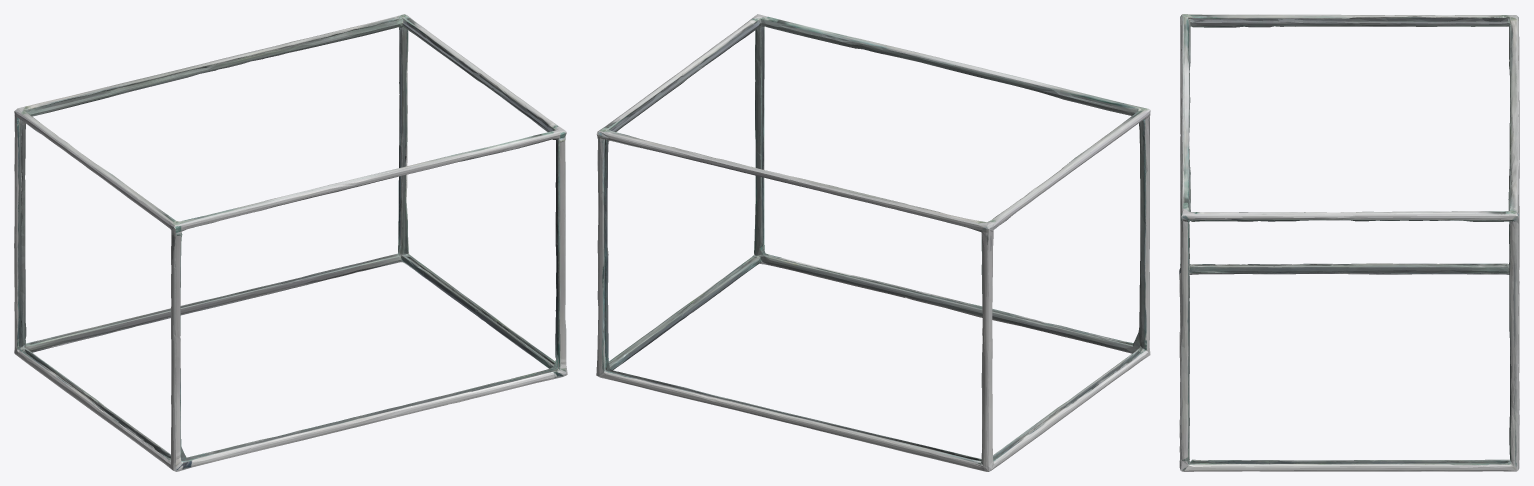
File: cam fanus.fbx
3 views of the same model, side by side, from view 1: azimuth 30°, elevation 25°; view 2: azimuth 150°, elevation 25°; view 3: azimuth 270°, elevation 25° (orthographic). The views are drawn at different scales.
Parts seen in each view (by area): view 1: temp; view 2: temp; view 3: temp.
Part boxes in pixels (x1=…): temp: x1=14, y1=14, x2=567, y2=471; temp: x1=596, y1=14, x2=1150, y2=471; temp: x1=1179, y1=14, x2=1519, y2=471.
Bounding box in the file's own units: 200 × 120 × 143.
1 material, 1 textured.
